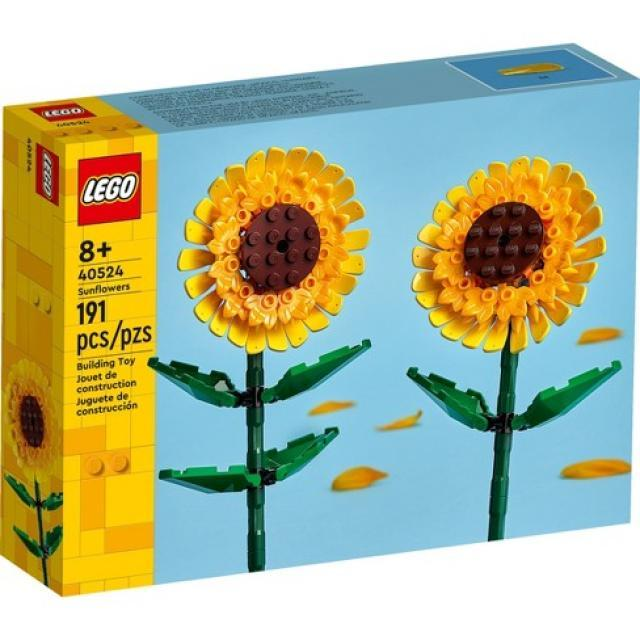sunflower: (176, 144, 370, 354), (409, 153, 606, 353), (1, 356, 61, 482)
